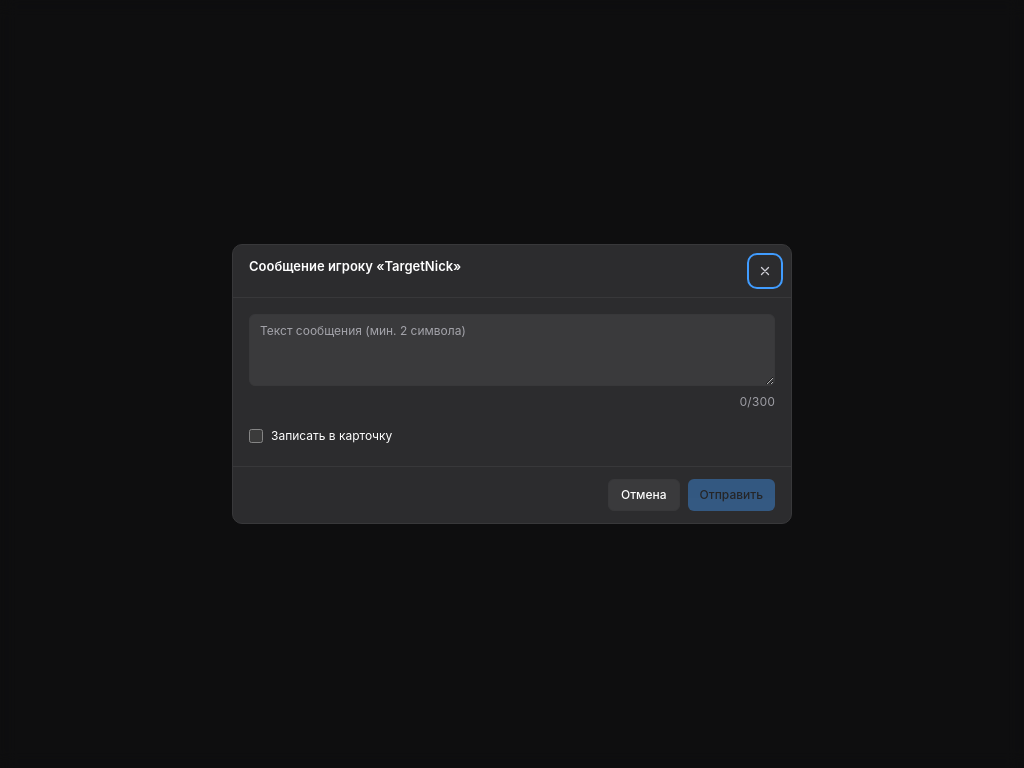
Scenario: DirectMessageModal › does not send when the confirmation is cancelled
Type "Stop teamkilling" into the text box with placeholder "Текст сообщения (мин. 2 символа)" at (512, 350), box [249,314,775,386]
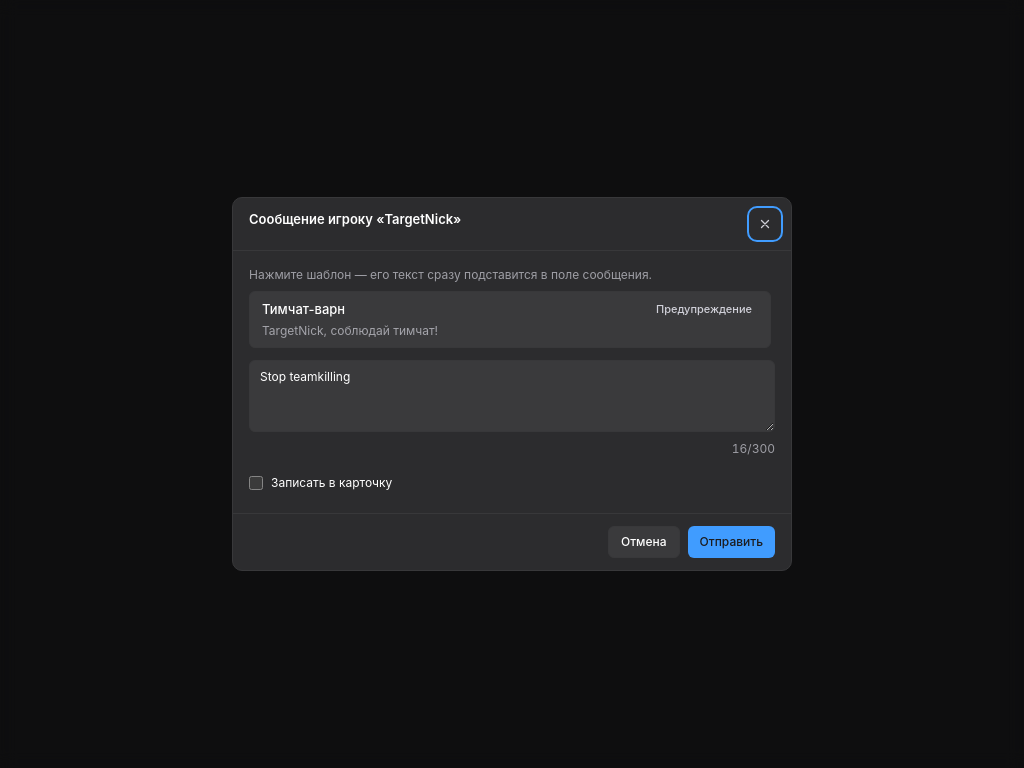
Click the button "Отправить" at (731, 542), box [688,526,775,558]
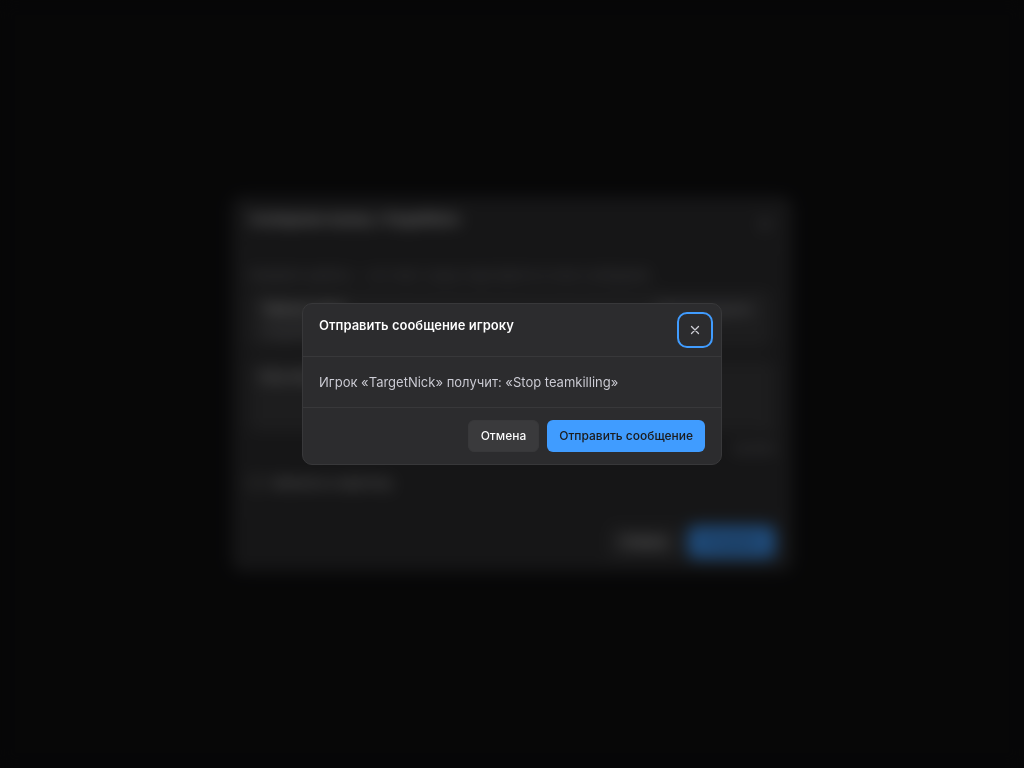
Click the button named "Отмена" at (695, 330), box [681,316,709,344]
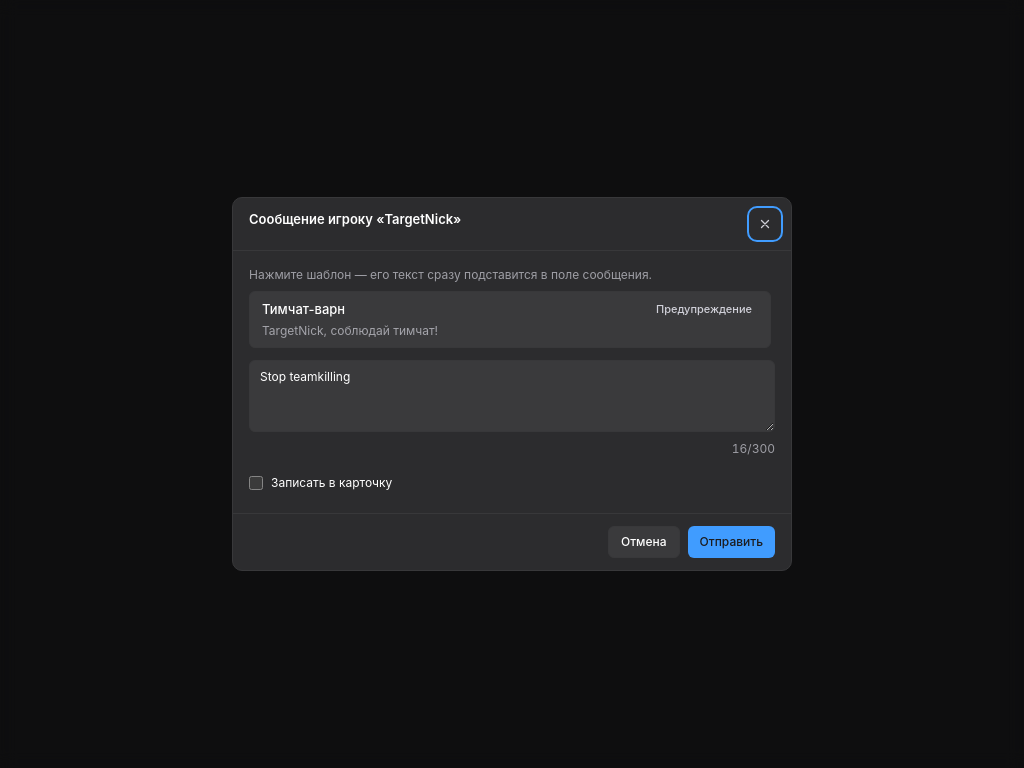
expect the heading "Отправить сообщение игроку" is gone: met
